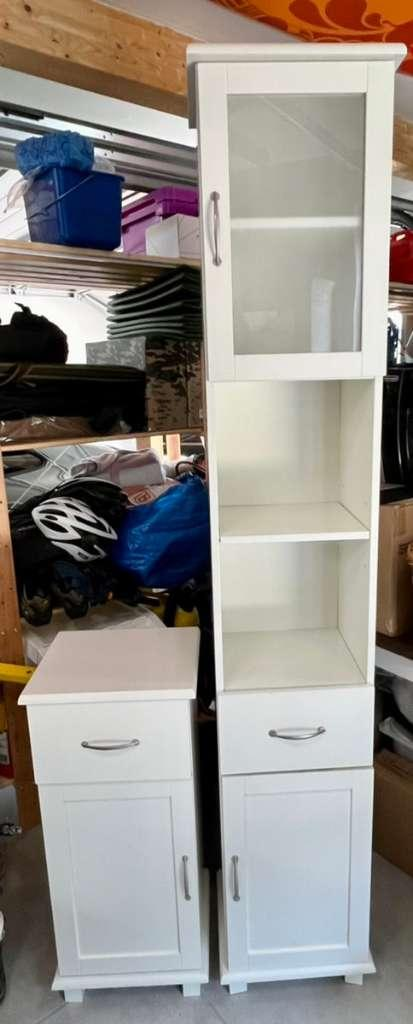cabinet_door: (200, 62, 390, 378), (56, 784, 203, 980), (226, 779, 370, 967), (38, 705, 190, 788), (226, 691, 373, 773)
handle: (266, 715, 327, 755), (80, 729, 141, 765), (207, 187, 221, 278), (230, 845, 242, 912), (180, 846, 191, 908)
